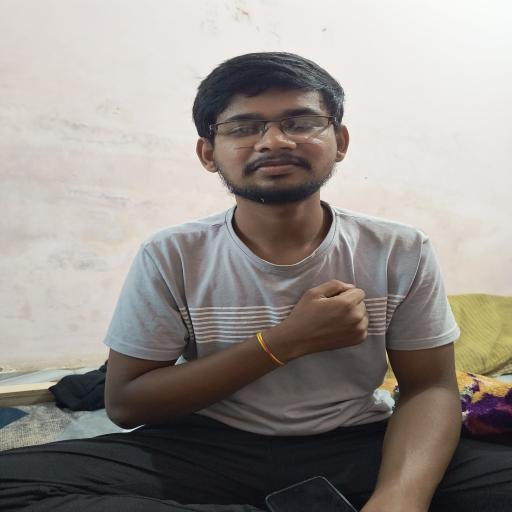Understood: (94, 210, 386, 439)
